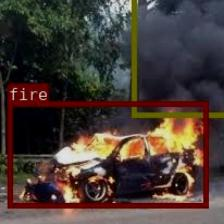fire: (7, 100, 207, 207)
smoke: (130, 0, 224, 116)
